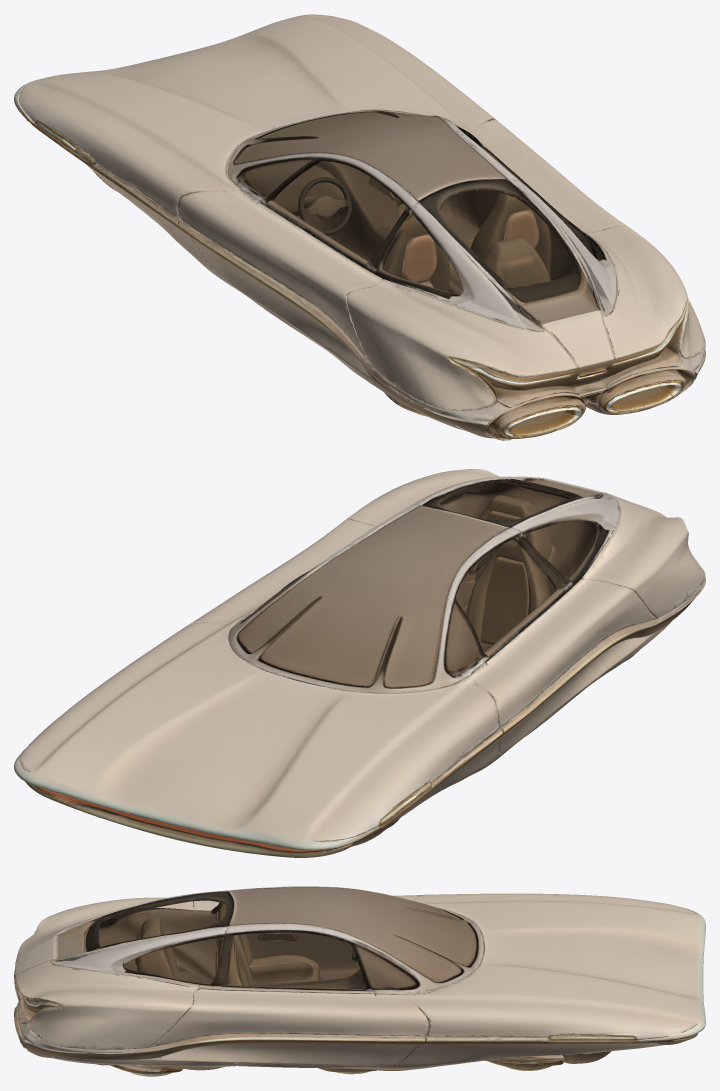
File: car-a.glb
3 views of the same model, one above another, from view 1: azimuth 30°, elevation 25°; view 2: azimuth 150°, elevation 25°; view 3: azimuth 270°, elevation 25° (orthographic). The views are drawn at different scales.
Parts seen in each view (by area): view 1: tripo_node_836e841e-3230-4586-aefb-88be8f41e68d; view 2: tripo_node_836e841e-3230-4586-aefb-88be8f41e68d; view 3: tripo_node_836e841e-3230-4586-aefb-88be8f41e68d.
Boxes of the visible parts, box(x1,y1,x2,y2) form: tripo_node_836e841e-3230-4586-aefb-88be8f41e68d: box(14, 14, 705, 440); tripo_node_836e841e-3230-4586-aefb-88be8f41e68d: box(14, 469, 705, 857); tripo_node_836e841e-3230-4586-aefb-88be8f41e68d: box(14, 886, 705, 1076).
Bounding box in the file's own units: 0.4528 × 0.21 × 0.9798.
1 material, 1 textured.
